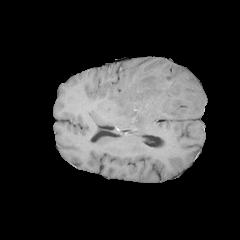glioma: (106, 68, 202, 133)
